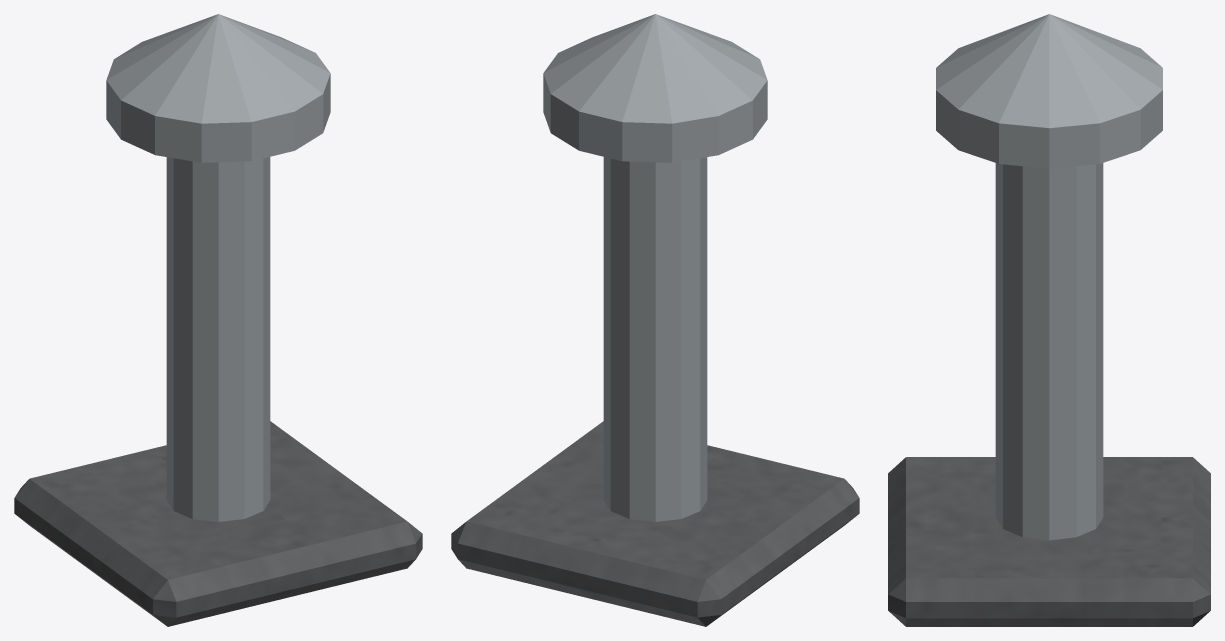
Rendered from vent.glb.
3 views of the same model, side by side, from view 1: azimuth 30°, elevation 25°; view 2: azimuth 150°, elevation 25°; view 3: azimuth 270°, elevation 25° (orthographic). The views are drawn at different scales.
Parts seen in each view (by area): view 1: vent_steel, vent_membrane; view 2: vent_steel, vent_membrane; view 3: vent_steel, vent_membrane.
Part boxes in pixels (x1,y1,x2,y2): vent_steel: (106, 14, 330, 521); vent_membrane: (14, 421, 422, 626); vent_steel: (543, 14, 767, 521); vent_membrane: (451, 421, 859, 626); vent_steel: (936, 14, 1162, 540); vent_membrane: (888, 457, 1210, 626).
Size of the model in its own units: 0.36 by 0.68 by 0.36.
Materials: 2 (1 with a texture image).
